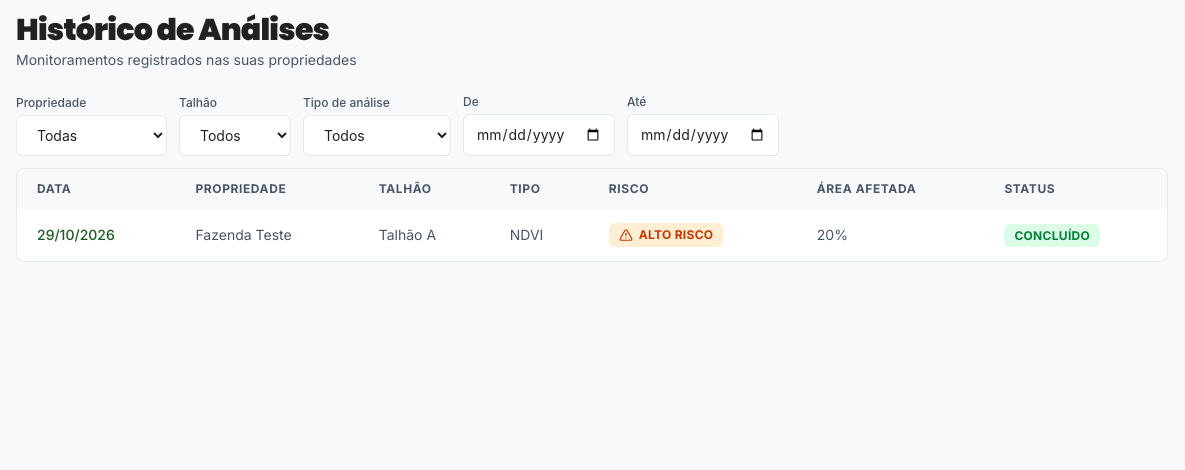
AnalisesHistoricoPage — filtros › lista a análise semeada e filtra por tipo
Expected: the text "Fazenda Teste" is shown, [175, 209, 359, 261]
Select "RGB" in the dropdown labelled "Tipo de análise" at coordinates (377, 136), box [303, 115, 451, 156]
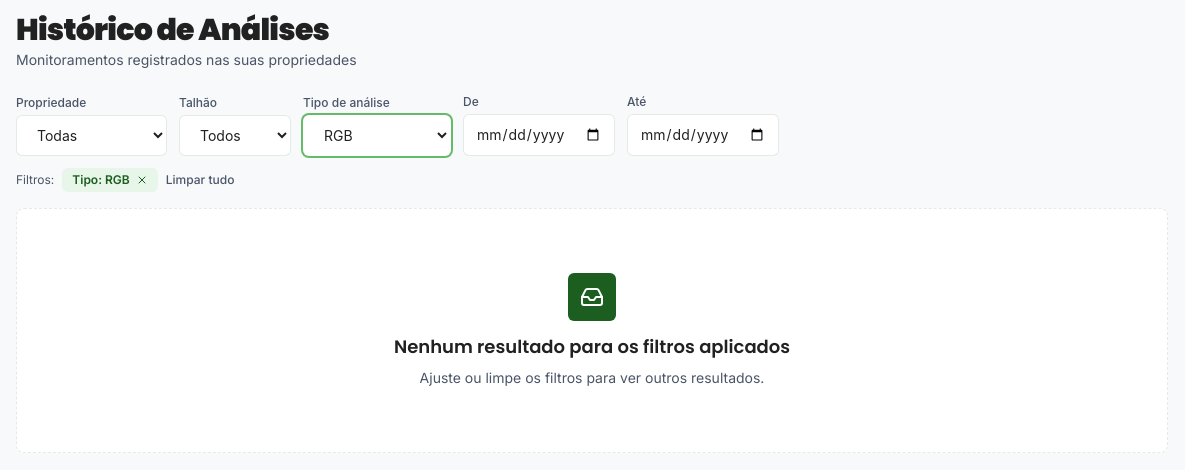
Result: the heading "Nenhum resultado para os filtros aplicados" is shown at [394, 333, 790, 360]
Select "Todos" in the dropdown labelled "Tipo de análise" at coordinates (377, 136), box [303, 115, 451, 156]
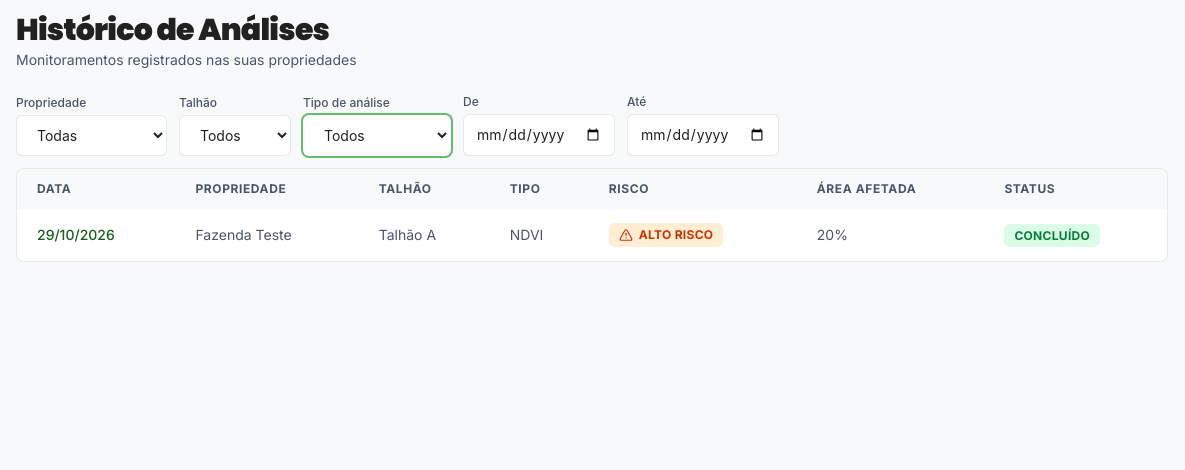
Result: the text "Fazenda Teste" is shown at [175, 209, 359, 261]
